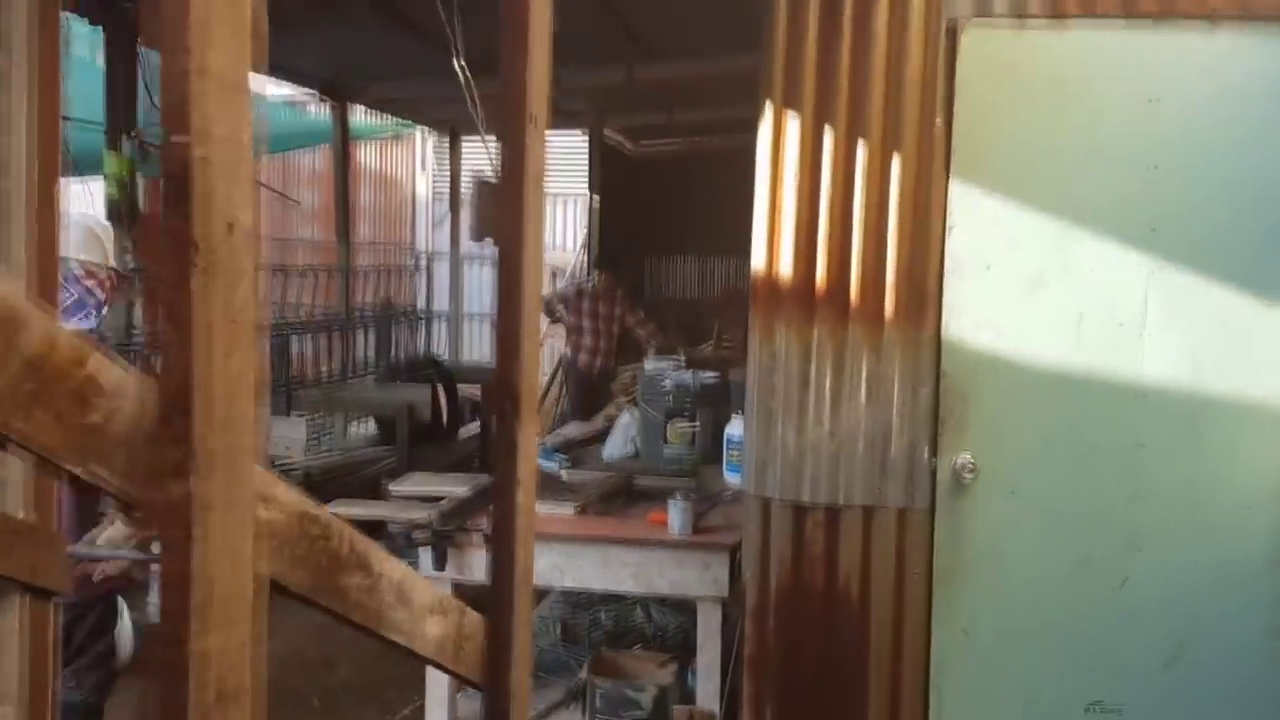helmet: (54, 211, 128, 276)
helmet-off: (585, 245, 627, 297)
helmet-on: (43, 211, 129, 342)
person: (538, 244, 669, 474)
